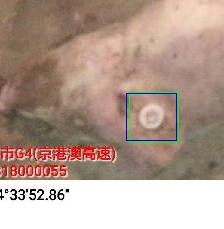text: (129, 92, 178, 142)
